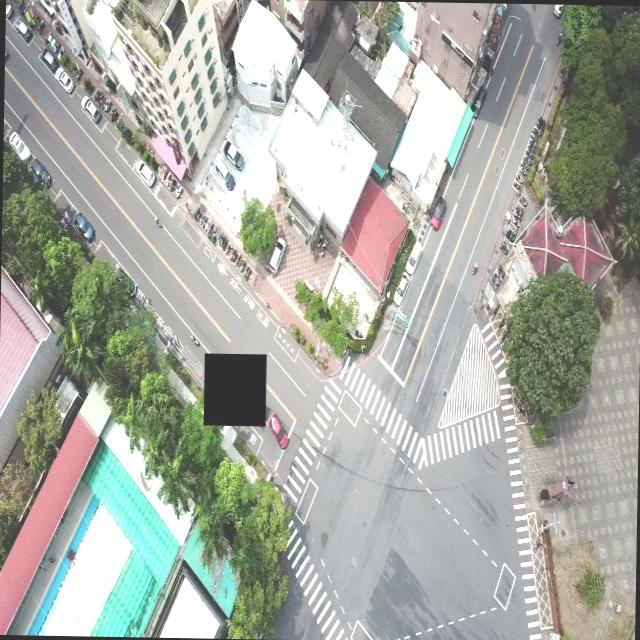car: (113, 264, 138, 296), (28, 155, 52, 187), (267, 235, 286, 274), (268, 411, 288, 448), (72, 209, 95, 240), (8, 130, 30, 162), (222, 138, 244, 170), (134, 158, 156, 187), (54, 64, 74, 94), (429, 195, 446, 230), (79, 94, 100, 122), (404, 242, 422, 274), (393, 272, 410, 304), (12, 18, 32, 42), (39, 46, 57, 70), (5, 0, 12, 17)
